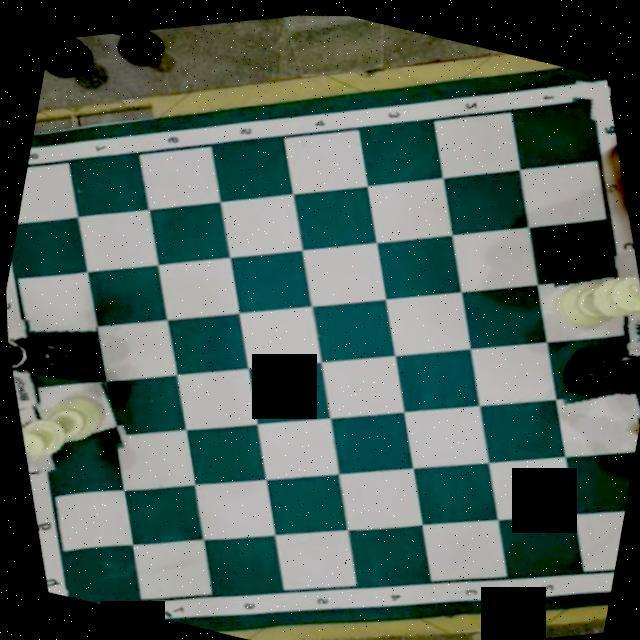chess-table-corners: (562, 64, 619, 122), (46, 580, 84, 600)
